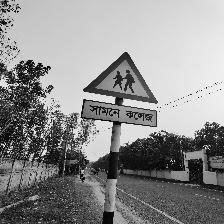College-in-front: (80, 47, 171, 150)
